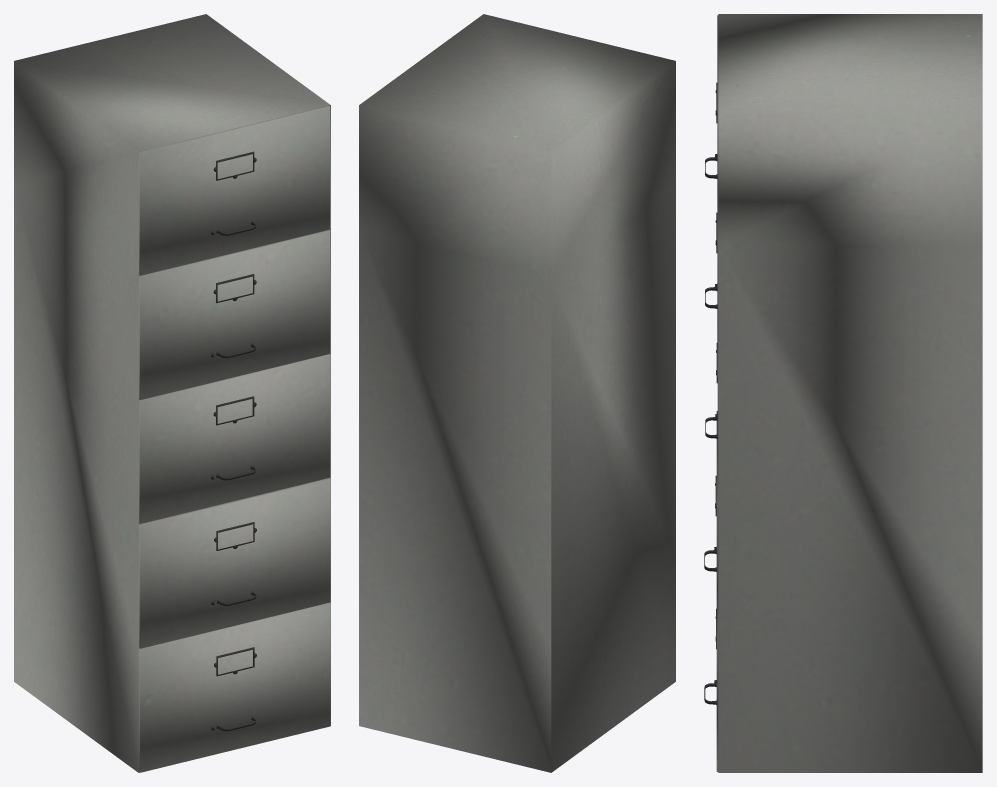
Rendered from file_cabinet.obj.
3 renders of one model, left to right at view 1: azimuth 30°, elevation 25°; view 2: azimuth 150°, elevation 25°; view 3: azimuth 270°, elevation 25°, orthographic. The views are drawn at different scales.
Parts seen in each view (by area): view 1: Default, DrawerHandels; view 2: Default; view 3: Default, DrawerHandels.
Boxes of the visible parts, x1,y1,x2,y2 form: Default: (14,14,330,772); DrawerHandels: (211,151,256,731); Default: (359,14,675,772); Default: (716,14,982,772); DrawerHandels: (704,82,717,704).
Size of the model in its own units: 4.03 by 12.44 by 4.76.
